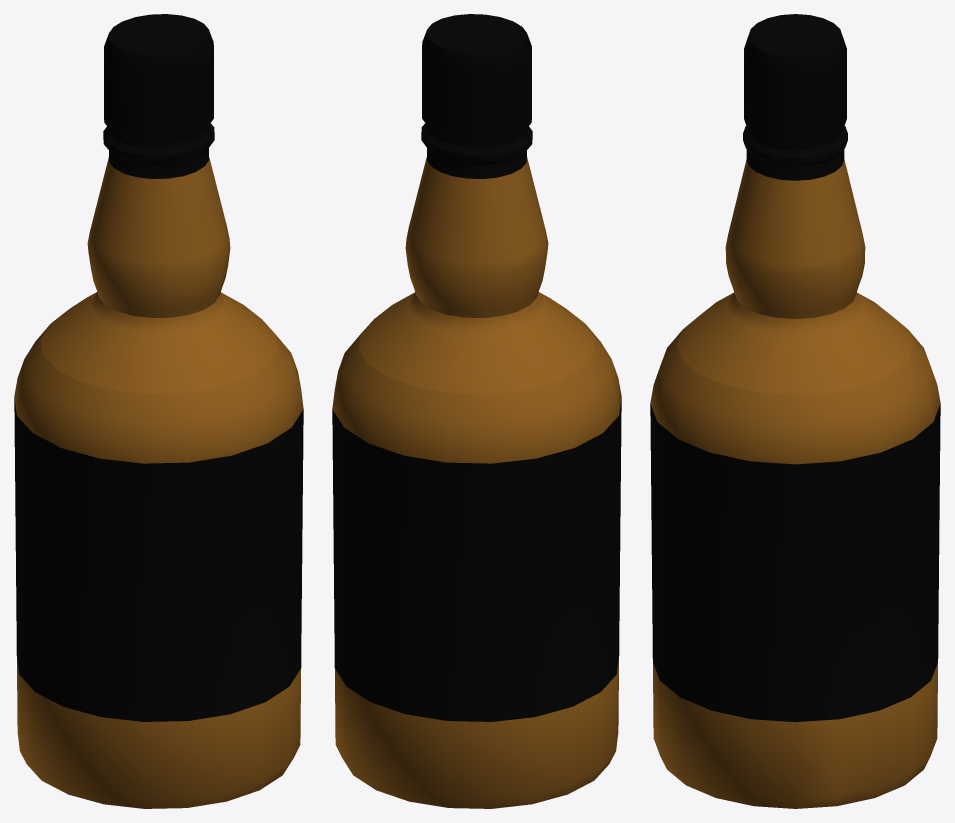
Rendered from bottle1.fbx.
3 views of the same model, side by side, from view 1: azimuth 30°, elevation 25°; view 2: azimuth 150°, elevation 25°; view 3: azimuth 270°, elevation 25° (orthographic).
Visible parts, largest first — view 1: alcoholBottle.002; view 2: alcoholBottle.002; view 3: alcoholBottle.002.
Part boxes in pixels (x1,y1,x2,y2): alcoholBottle.002: (14, 14, 303, 808); alcoholBottle.002: (332, 14, 621, 808); alcoholBottle.002: (650, 14, 940, 808).
Bounding box in the file's own units: 11.09 × 30.19 × 11.09.
